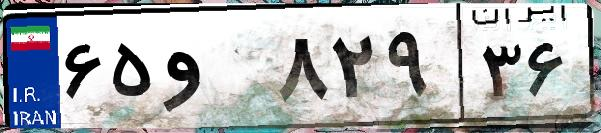2: (330, 28, 385, 110)
3: (475, 38, 525, 113)
5: (110, 28, 158, 98)
6: (57, 26, 110, 100), (525, 38, 570, 115)
8: (270, 28, 330, 110)
9: (385, 28, 445, 110)
و: (158, 20, 270, 120)
